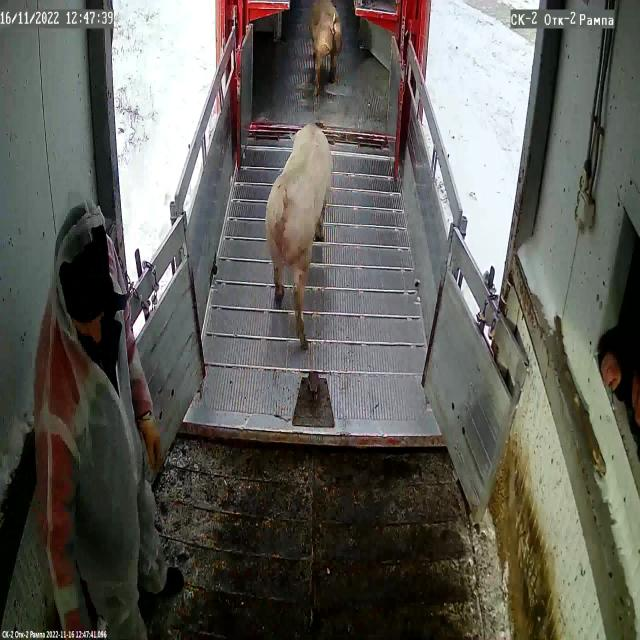pig: (266, 124, 333, 351), (311, 0, 342, 96)
